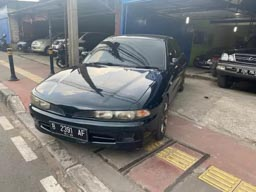plat: (50, 122, 87, 143)
